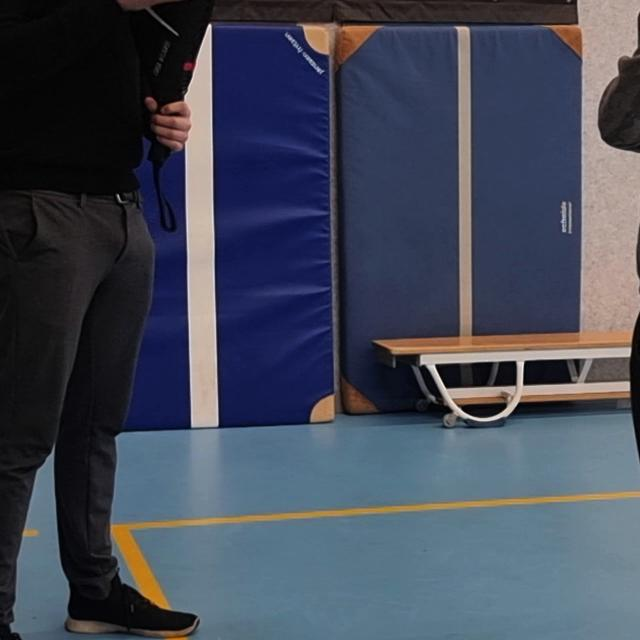paddle: (116, 0, 220, 173)
